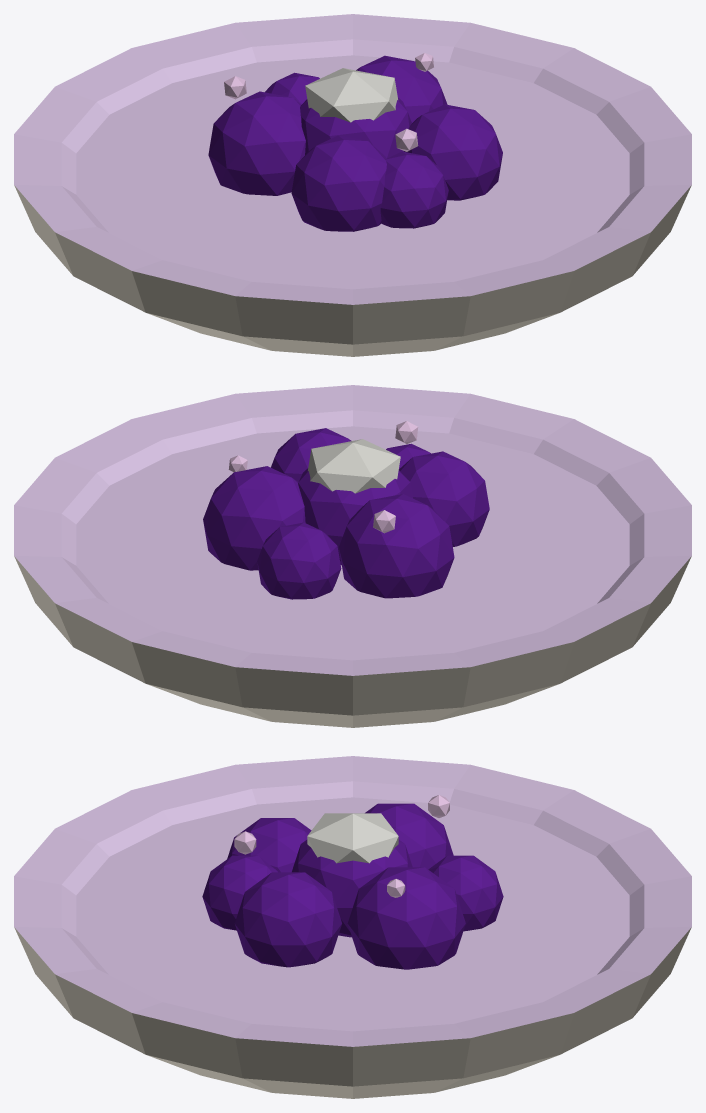
Rendered from Dream_Bowl.glb.
3 views of the same model, one above another, from view 1: azimuth 30°, elevation 25°; view 2: azimuth 150°, elevation 25°; view 3: azimuth 270°, elevation 25° (orthographic).
Visible parts, largest first — view 1: _I_DreamBowl; view 2: _I_DreamBowl; view 3: _I_DreamBowl.
Part boxes in pixels (bbox=[...]): _I_DreamBowl: bbox=[14, 14, 691, 356]; _I_DreamBowl: bbox=[14, 385, 691, 727]; _I_DreamBowl: bbox=[14, 756, 691, 1098].
Bounding box in the file's own units: 0.64 × 0.21 × 0.6303.
